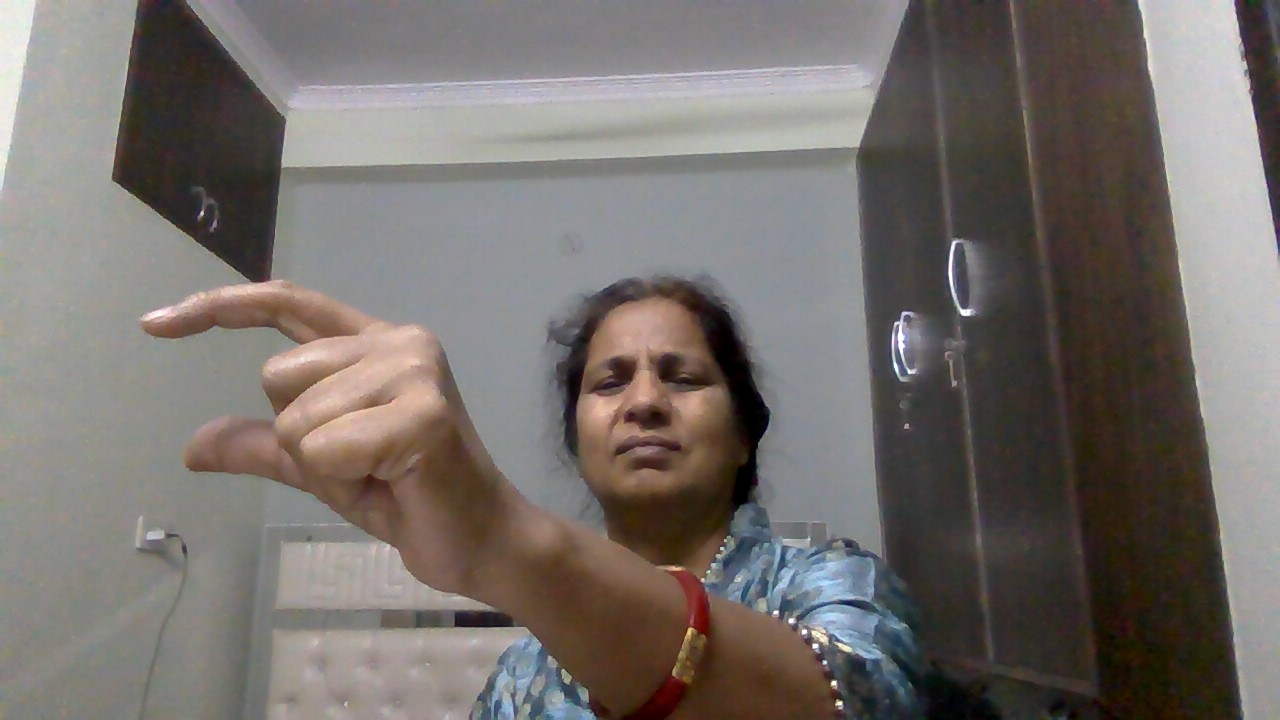Paste: (136, 272, 536, 619)
